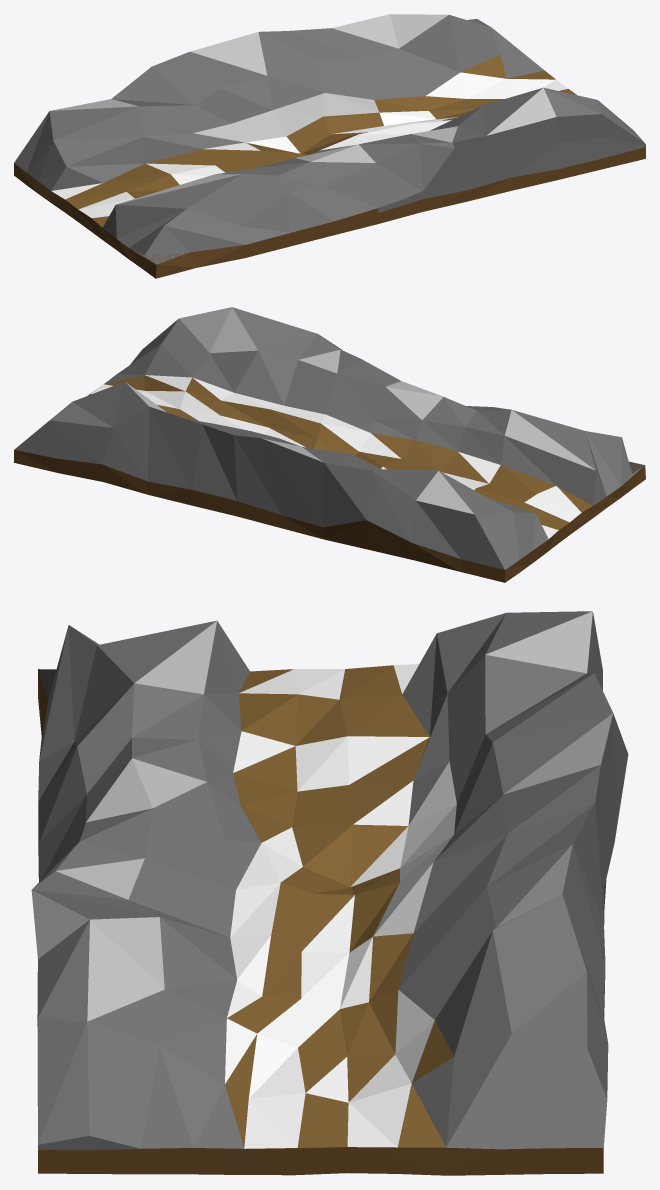
Rendered from PlaneSpring1.fbx.
3 views of the same model, one above another, from view 1: azimuth 30°, elevation 25°; view 2: azimuth 150°, elevation 25°; view 3: azimuth 270°, elevation 25° (orthographic). The views are drawn at different scales.
Visible parts, largest first — view 1: PlaneSpring1.Cliffs, PlaneSpring1.SnowCliffs, PlaneSpring1.Road, PlaneSpring1.Floor, PlaneSpring1.Snow; view 2: PlaneSpring1.Cliffs, PlaneSpring1.Floor, PlaneSpring1.Road, PlaneSpring1.SnowCliffs, PlaneSpring1.Snow; view 3: PlaneSpring1.Cliffs, PlaneSpring1.Road, PlaneSpring1.Snow, PlaneSpring1.SnowCliffs, PlaneSpring1.Floor.
Boxes of the visible parts, x1,y1,x2,y2 form: PlaneSpring1.Cliffs: [14, 14, 645, 264]; PlaneSpring1.SnowCliffs: [50, 14, 556, 203]; PlaneSpring1.Road: [65, 54, 575, 227]; PlaneSpring1.Floor: [14, 91, 645, 278]; PlaneSpring1.Snow: [51, 72, 567, 218]; PlaneSpring1.Cliffs: [14, 307, 644, 569]; PlaneSpring1.Floor: [14, 389, 645, 582]; PlaneSpring1.Road: [89, 375, 592, 529]; PlaneSpring1.SnowCliffs: [125, 307, 595, 514]; PlaneSpring1.Snow: [91, 375, 581, 538]; PlaneSpring1.Cliffs: [32, 611, 628, 1150]; PlaneSpring1.Road: [225, 665, 453, 1147]; PlaneSpring1.Snow: [225, 664, 434, 1148]; PlaneSpring1.SnowCliffs: [31, 611, 613, 1021]; PlaneSpring1.Floor: [38, 669, 606, 1175].
Size of the model in its own units: 40378 by 6692 by 21089.
